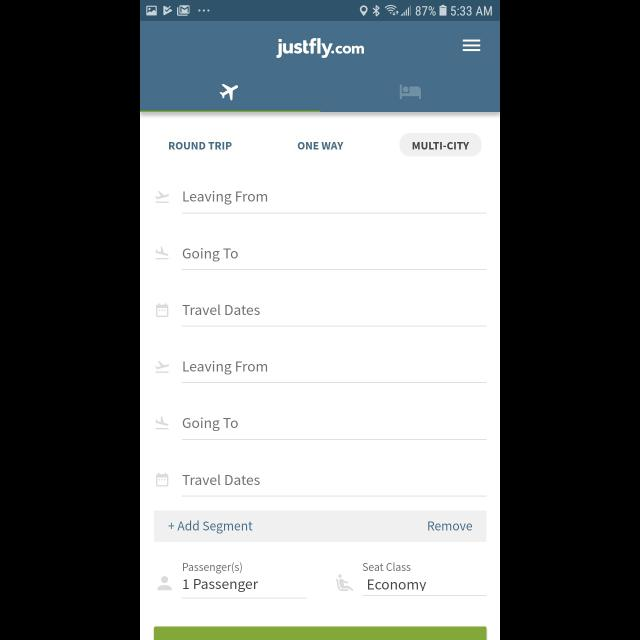icon: (462, 38, 482, 52), (156, 576, 172, 592), (156, 302, 170, 318), (156, 472, 170, 488), (169, 522, 175, 530)
image: (399, 84, 421, 100), (220, 83, 238, 101), (336, 574, 354, 592), (155, 246, 169, 260), (155, 416, 169, 430), (155, 361, 169, 374), (156, 192, 170, 204)
text: (276, 38, 364, 58), (184, 191, 268, 205), (184, 361, 268, 375), (178, 520, 254, 534), (184, 578, 258, 592), (183, 304, 261, 316), (183, 474, 261, 486), (182, 248, 238, 262), (182, 417, 238, 431), (368, 579, 427, 591), (182, 562, 242, 572), (170, 142, 232, 150), (363, 562, 411, 572), (428, 521, 472, 531), (297, 141, 343, 149)
textbutton: (400, 134, 482, 158)
uppertaskbar: (140, 1, 500, 22)
